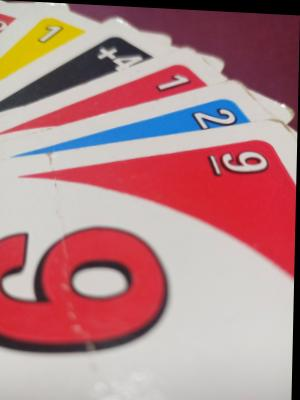num_1: (155, 66, 194, 93), (33, 15, 64, 46)
num_2: (187, 96, 242, 132)
num_9: (0, 212, 180, 369), (205, 138, 271, 181)
wild-4: (91, 39, 150, 75)
